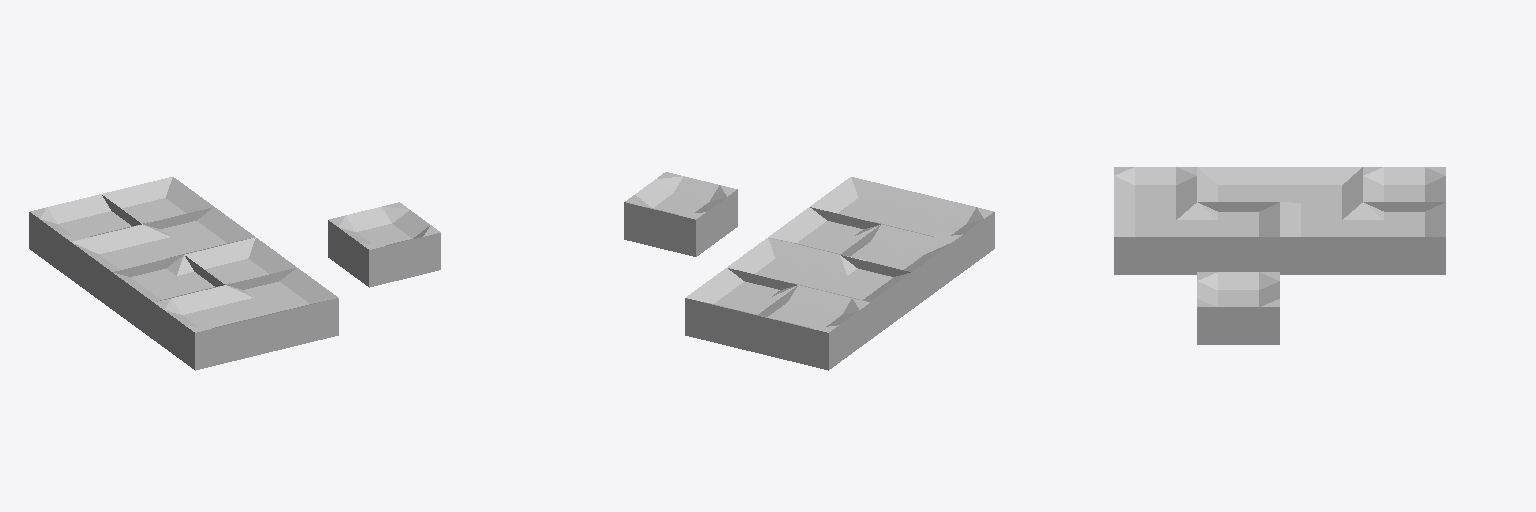
The model's file is 70s_path.obj.
3 views of the same model, side by side, from view 1: azimuth 30°, elevation 25°; view 2: azimuth 150°, elevation 25°; view 3: azimuth 270°, elevation 25° (orthographic).
Visible parts, largest first — view 1: hole.3.1_Cube.290, ending.0.0_ending.577, corner.1.0_corner.1432, corner.0.2_corner.1431, ending.0.3_ending.578, corner.0.1_corner.1430, corner.1.2_corner.1434, corner.1.3_corner.1435, corner.1.1_corner.1433; view 2: hole.3.1_Cube.290, ending.0.3_ending.578, corner.1.3_corner.1435, corner.0.1_corner.1430, ending.0.0_ending.577, corner.0.2_corner.1431, corner.1.0_corner.1432, corner.1.2_corner.1434, corner.1.1_corner.1433; view 3: corner.1.3_corner.1435, hole.3.1_Cube.290, corner.1.0_corner.1432, corner.1.2_corner.1434, corner.1.1_corner.1433, corner.0.2_corner.1431, ending.0.0_ending.577, corner.0.1_corner.1430, ending.0.3_ending.578.
Boxes of the visible parts, <box> form: hole.3.1_Cube.290: <box>328,202,440,287</box>; ending.0.0_ending.577: <box>154,285,266,370</box>; corner.1.0_corner.1432: <box>226,268,338,352</box>; corner.0.2_corner.1431: <box>71,224,182,308</box>; ending.0.3_ending.578: <box>29,194,137,278</box>; corner.0.1_corner.1430: <box>112,255,223,339</box>; corner.1.2_corner.1434: <box>143,207,254,255</box>; corner.1.3_corner.1435: <box>102,177,213,225</box>; corner.1.1_corner.1433: <box>185,237,296,285</box>; hole.3.1_Cube.290: <box>624,172,737,256</box>; ending.0.3_ending.578: <box>757,285,869,370</box>; corner.1.3_corner.1435: <box>685,268,797,352</box>; corner.0.1_corner.1430: <box>840,224,952,308</box>; ending.0.0_ending.577: <box>886,194,994,278</box>; corner.0.2_corner.1431: <box>800,255,911,339</box>; corner.1.0_corner.1432: <box>810,177,921,228</box>; corner.1.2_corner.1434: <box>727,237,838,289</box>; corner.1.1_corner.1433: <box>769,207,880,255</box>; corner.1.3_corner.1435: <box>1363,202,1445,274</box>; hole.3.1_Cube.290: <box>1197,272,1279,344</box>; corner.1.0_corner.1432: <box>1114,202,1196,274</box>; corner.1.2_corner.1434: <box>1280,202,1362,274</box>; corner.1.1_corner.1433: <box>1197,202,1279,271</box>; corner.0.2_corner.1431: <box>1280,167,1362,211</box>; ending.0.0_ending.577: <box>1114,167,1196,211</box>; corner.0.1_corner.1430: <box>1197,167,1279,211</box>; ending.0.3_ending.578: <box>1363,167,1445,201</box>.
Size of the model in its own units: 8 by 1 by 8.